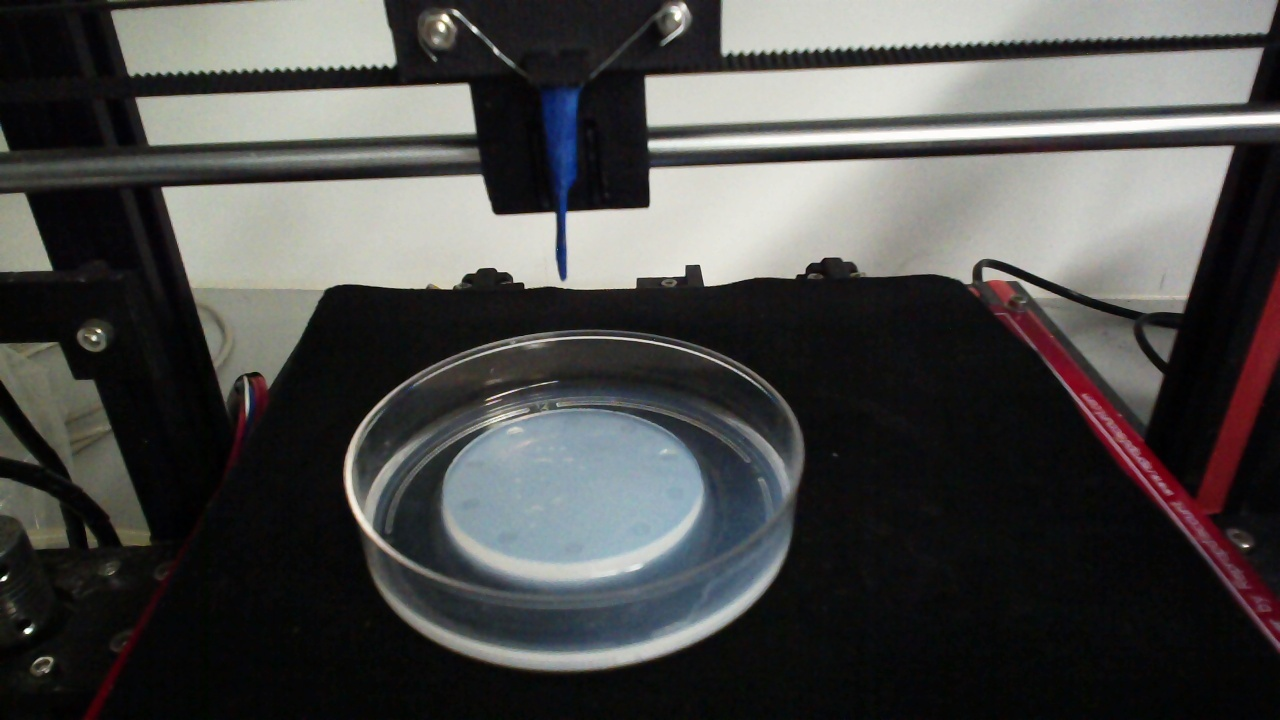groove: (495, 530, 519, 545), (560, 415, 584, 430), (562, 541, 584, 557), (657, 449, 680, 464), (618, 420, 638, 437), (459, 497, 480, 513), (631, 522, 652, 538), (665, 486, 685, 502), (463, 457, 485, 470), (504, 426, 524, 439)
needle: (541, 88, 577, 282)
